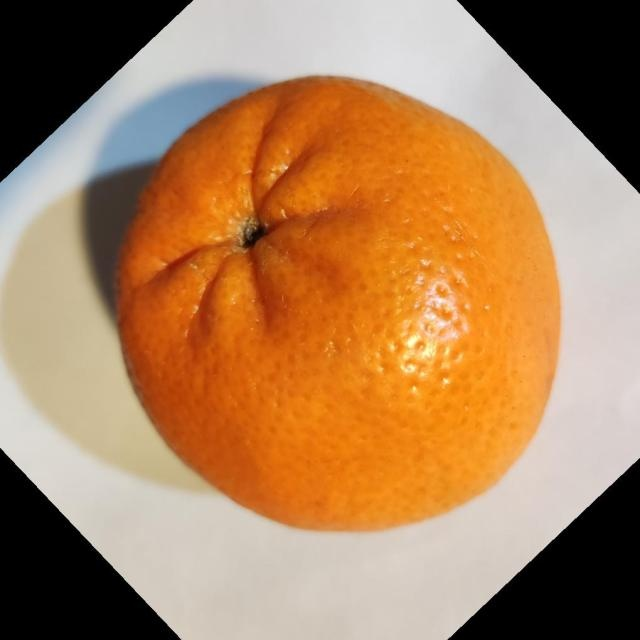agrume: (113, 72, 562, 532)
